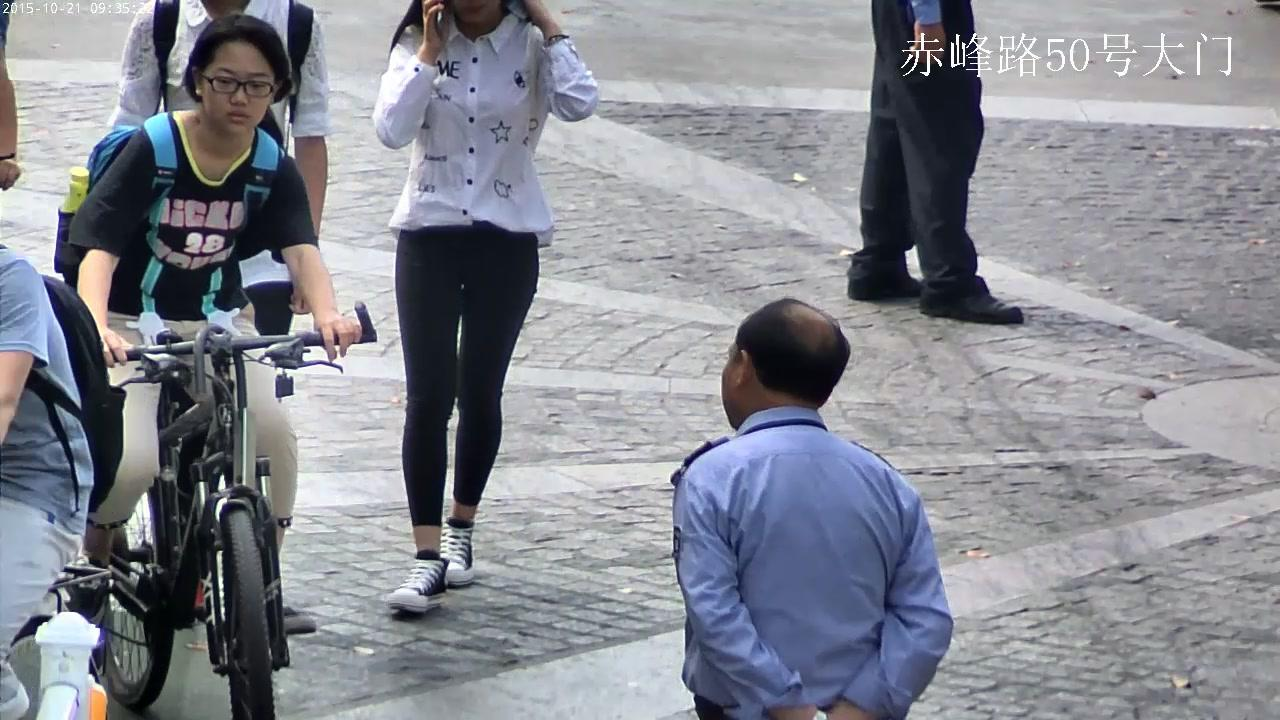face: (203, 40, 272, 132), (721, 335, 739, 427), (449, 0, 499, 23)
